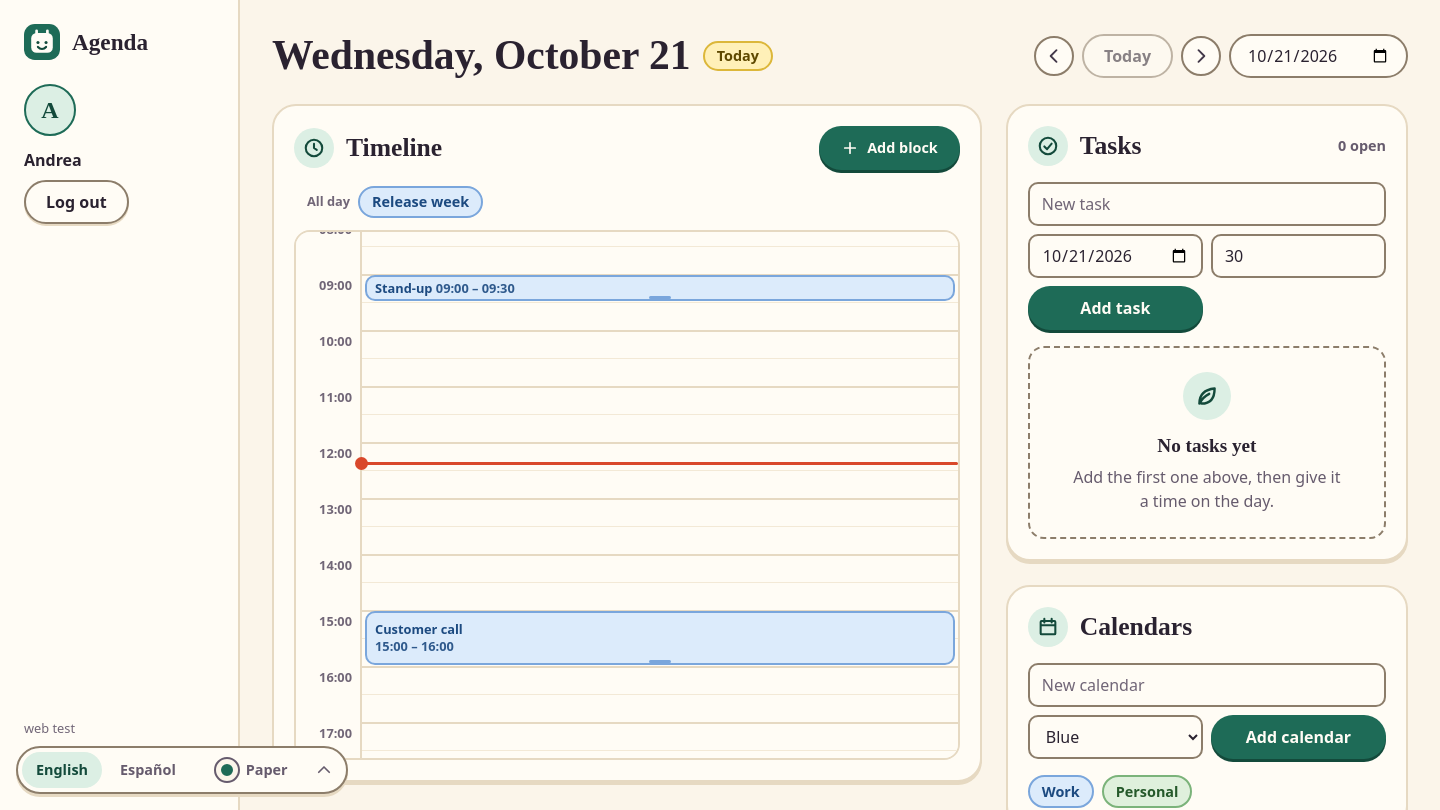
Test: planning a day › changes the times of a block from its details
(page scrolled)
Click the button "Stand-up 09:00 – 09:30" at (404, 288), box [365,275,955,301]
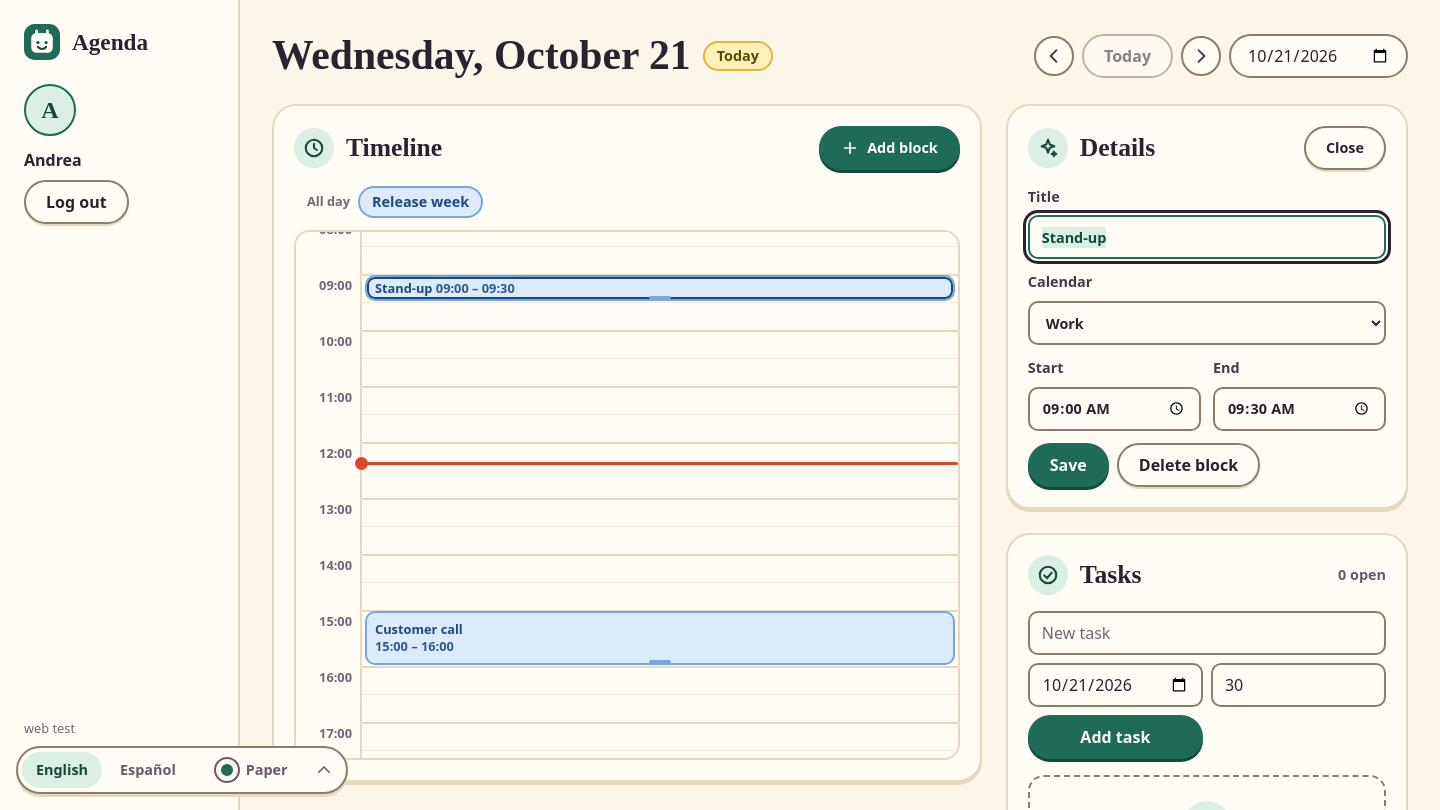
Replace the text in the time field labelled "End" with "10:15" at (1299, 409), box [1213,387,1386,431]
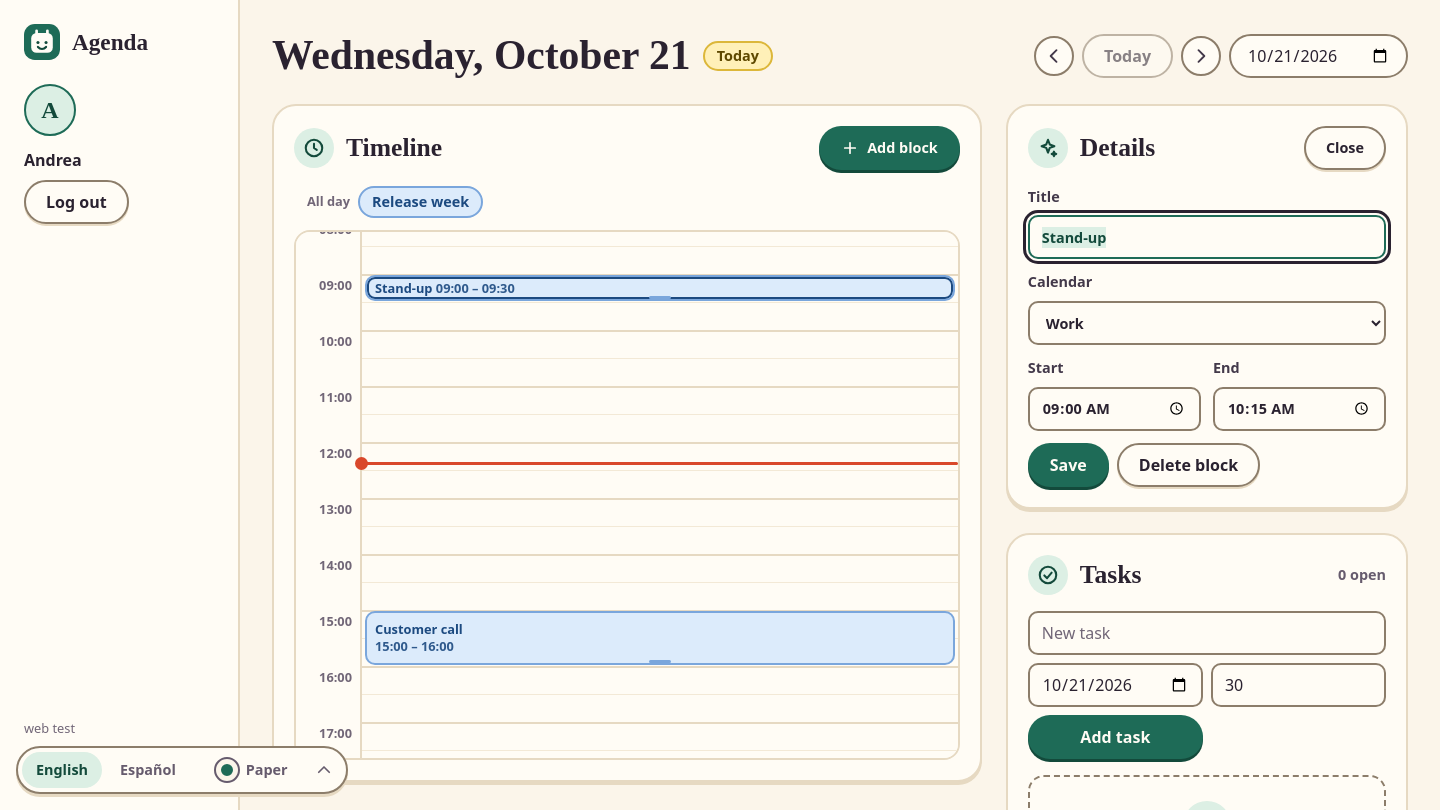
Click the button "Save" at (1068, 465), box [1028,443,1109,487]
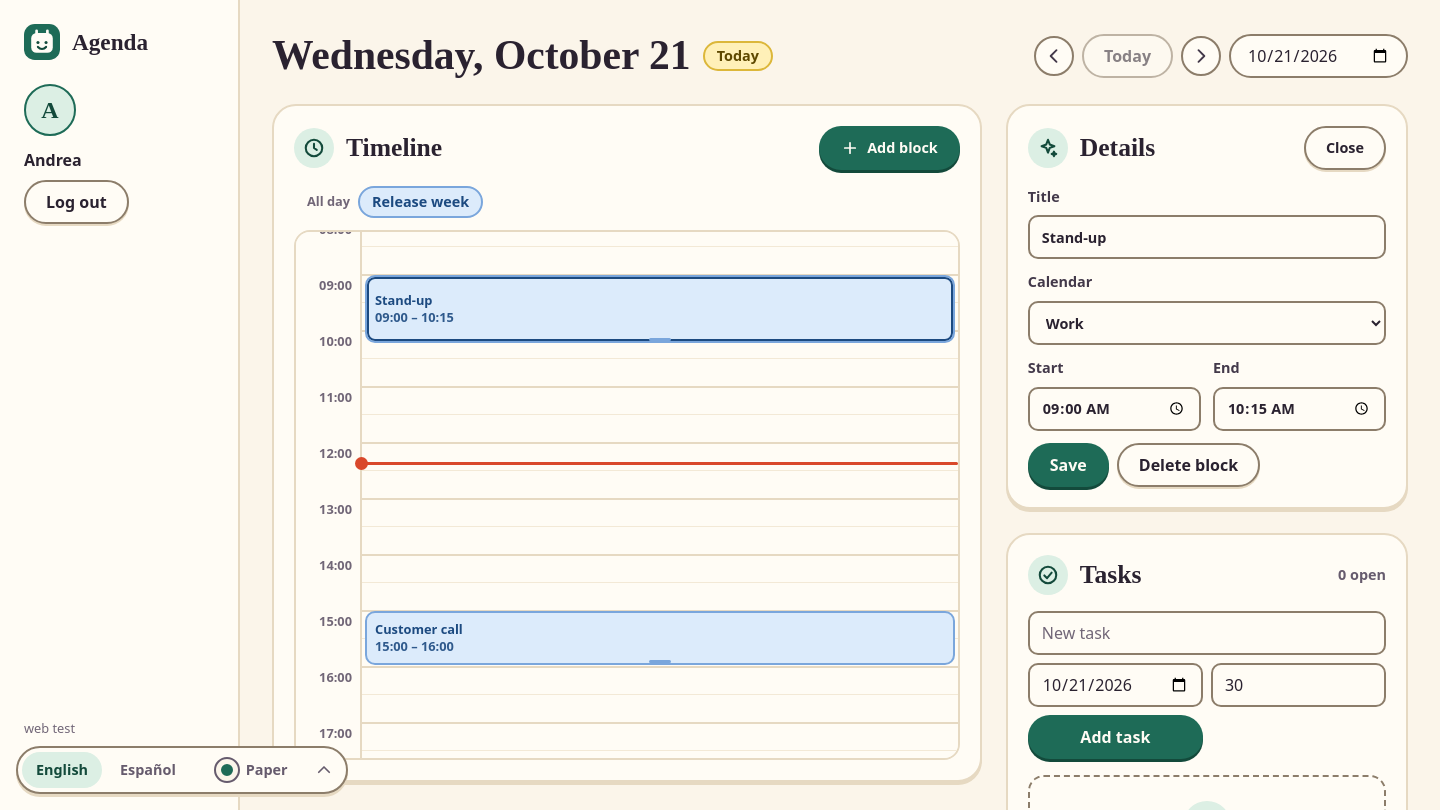
Now the button "Stand-up 09:00 – 10:15" is shown, box [365,275,955,343]
